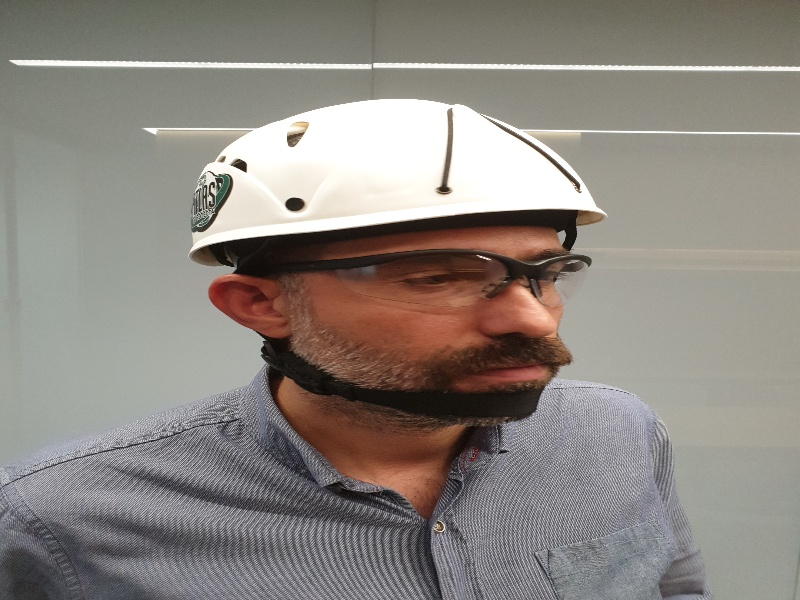Baret: (189, 96, 615, 242)
Gozluk: (253, 248, 596, 314)
